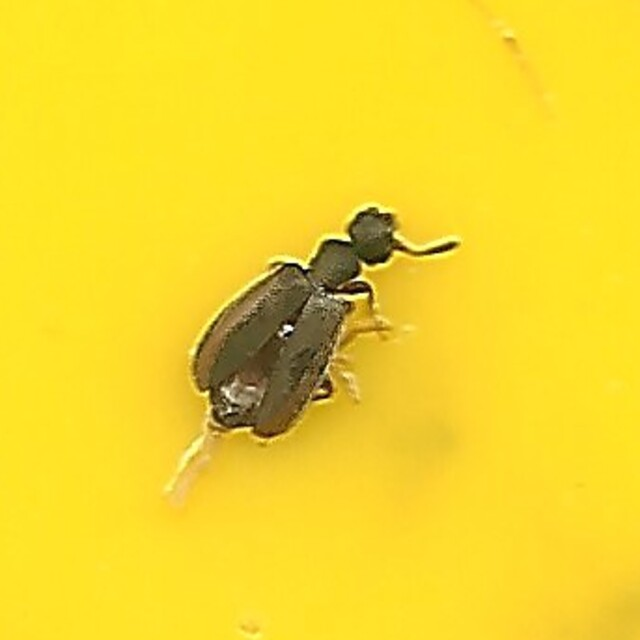Coleoptera: (187, 199, 453, 441)
